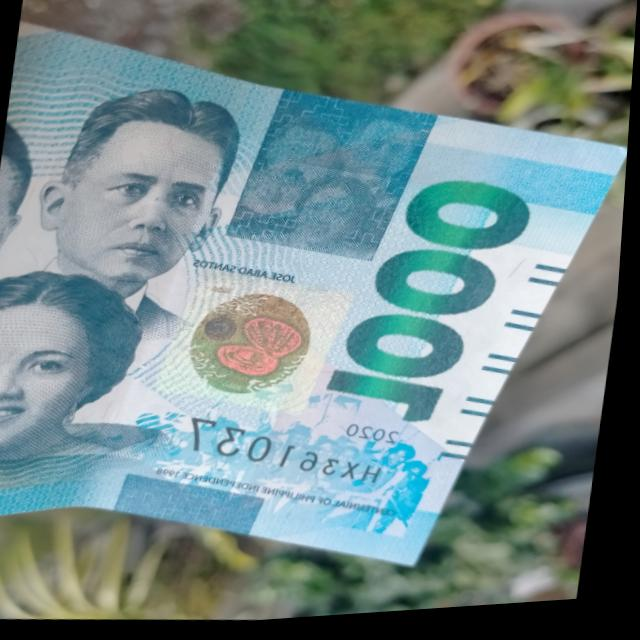concealed_value: (225, 90, 441, 266)
optically_variable_device: (157, 268, 359, 418)
serial_number: (177, 410, 414, 500)
value: (313, 176, 553, 445)
